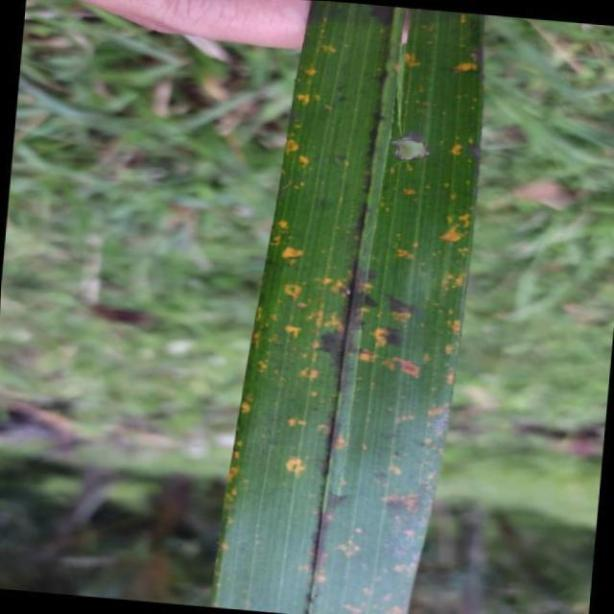Healthy: (213, 0, 484, 614)
